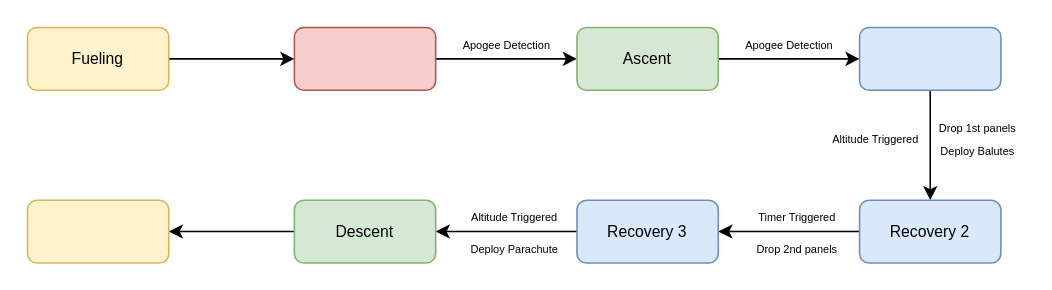
Some shapes in this 1052 by 290 pixel diagram are drawn without their labels. Each missing label, with the centre of its shape:
"Ignition" belongs at point 364,58.
"Landed/Disarmed" belongs at point 97,231.
"Recovery 1" belongs at point 929,58.
